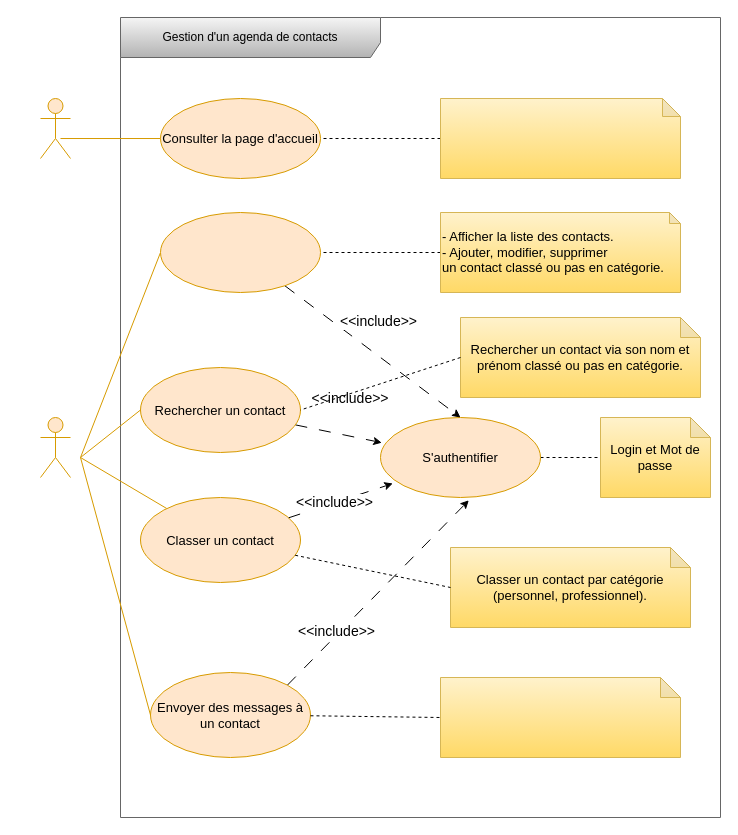
Image size: 738x835. Some labels were removed from this diagram. Each missing label, with the centre of its shape:
"Envoyer des messages à un contact qui recevra une notification." goes at point 560,717.
"Gérer les contacts" goes at point 240,252.
"User connecté" goes at point 55,447.
"Visiteur" goes at point 55,128.
"Visualiser une liste de contacts fictifs via la page d'accueil du site." goes at point 560,138.
